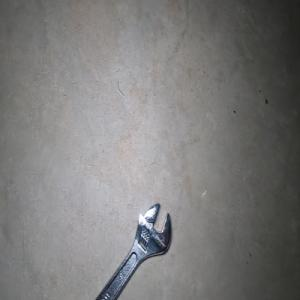Wrench: (95, 203, 171, 300)
